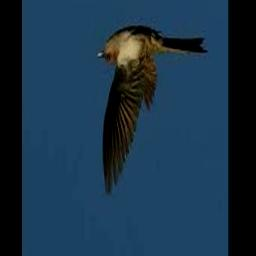Cuckoo: (97, 28, 208, 197)
